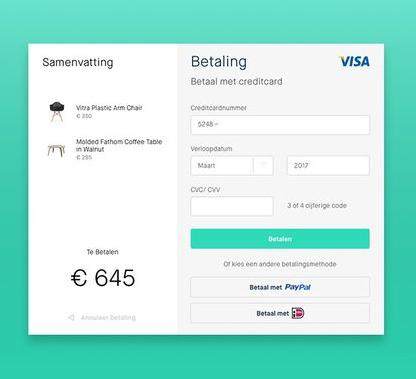button: (187, 301, 372, 327), (189, 227, 370, 251), (188, 276, 372, 297)
field: (188, 114, 372, 136), (187, 194, 277, 217), (286, 154, 372, 178), (188, 155, 275, 177)
